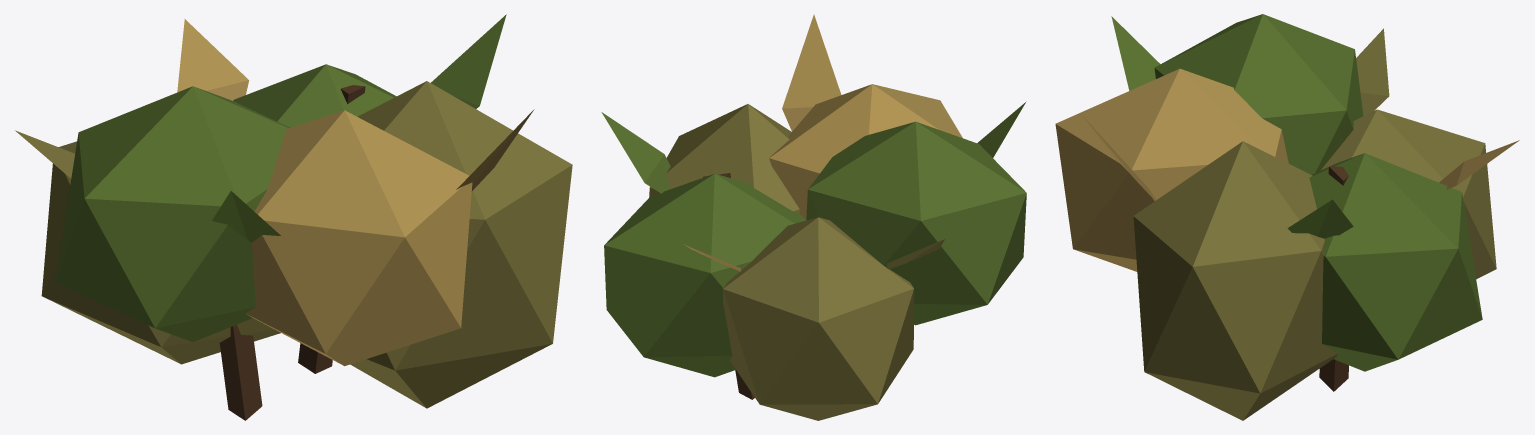
File: E3_brush_d.glb
The picture shows the model from 3 angles, left to right: view 1: azimuth 30°, elevation 25°; view 2: azimuth 150°, elevation 25°; view 3: azimuth 270°, elevation 25°; orthographic projection. The views are drawn at different scales.
Visible parts, largest first — view 1: E3_brush_d; view 2: E3_brush_d; view 3: E3_brush_d.
Part boxes in pixels (x1=…): E3_brush_d: x1=15, y1=14, x2=572, y2=420; E3_brush_d: x1=601, y1=14, x2=1026, y2=420; E3_brush_d: x1=1055, y1=14, x2=1519, y2=420.
Bounding box in the file's own units: 1.09 × 0.8 × 1.07.
